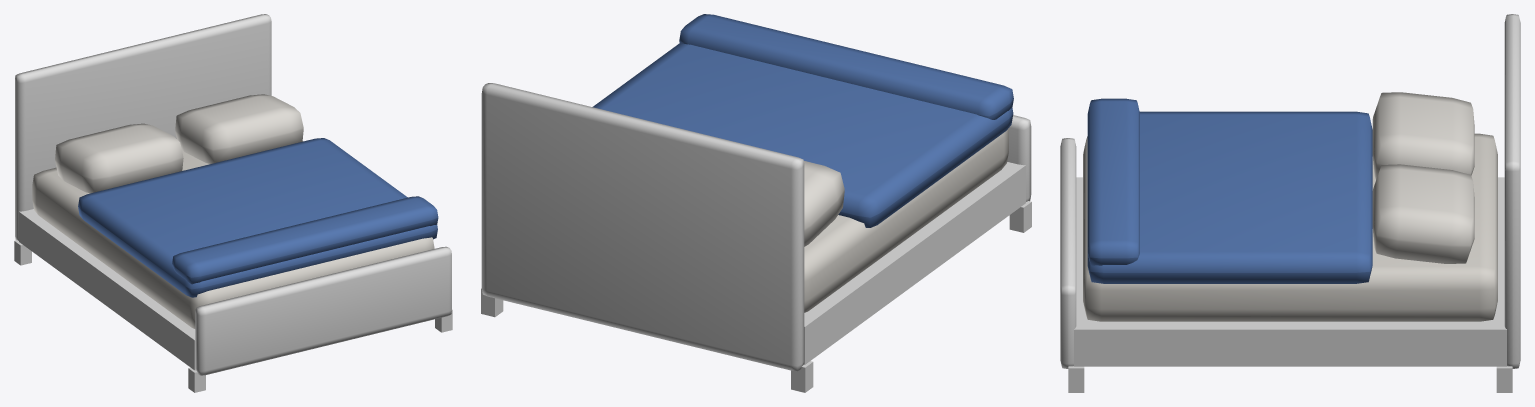
Rendered from bed-double-blue.glb.
3 renders of one model, left to right at view 1: azimuth 30°, elevation 25°; view 2: azimuth 150°, elevation 25°; view 3: azimuth 270°, elevation 25°, orthographic. The views are drawn at different scales.
Parts seen in each view (by area): view 1: bed-double-blue; view 2: bed-double-blue; view 3: bed-double-blue.
Part boxes in pixels (x1=…): bed-double-blue: x1=14, y1=14, x2=452, y2=392; bed-double-blue: x1=481, y1=14, x2=1031, y2=392; bed-double-blue: x1=1060, y1=14, x2=1520, y2=392.
Size of the model in its own units: 1.85 by 1.27 by 2.32.
